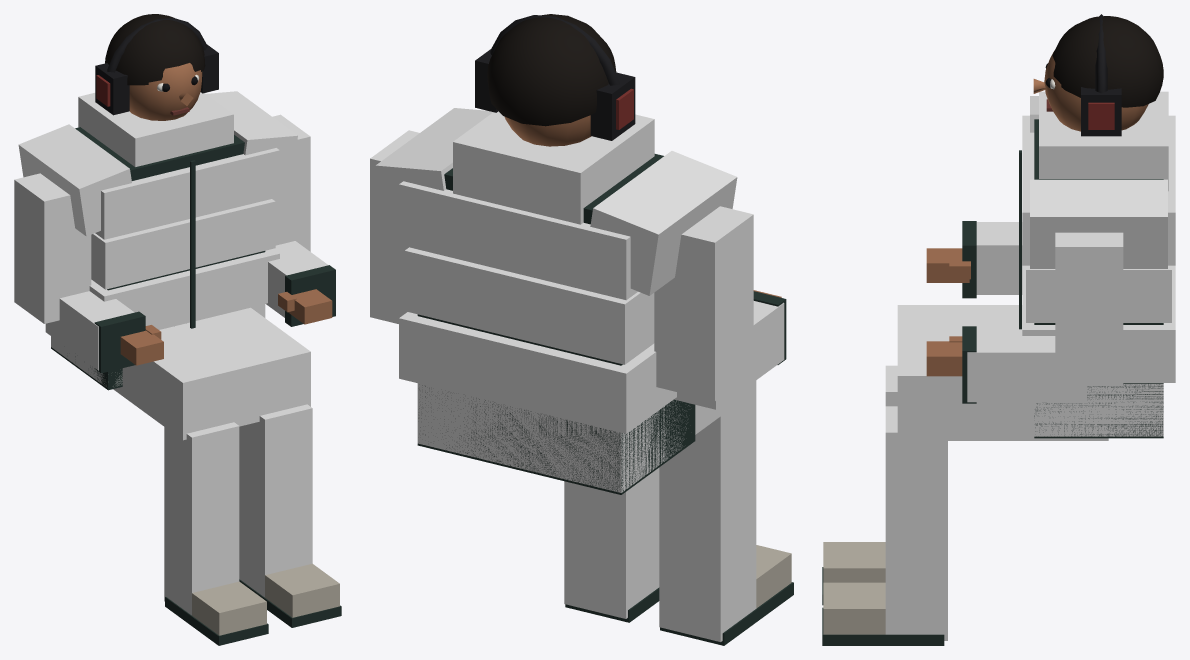
The model's file is NPC_puffer_seated.fbx.
The picture shows the model from 3 angles, left to right: view 1: azimuth 30°, elevation 25°; view 2: azimuth 150°, elevation 25°; view 3: azimuth 270°, elevation 25°; orthographic projection. The views are drawn at different scales.
Visible parts, largest first — view 1: Body_Cloth_557a70.001, Body_Cloth_3a4456.001, Body_Mat_23332f.001, Body_Mat_b9b3a6.001, Head_Hair.015, Head_Skin.015, Body_Skin.015, Head_Mat_19191c.001; view 2: Body_Cloth_557a70.001, Body_Cloth_3a4456.001, Body_Mat_23332f.001, Head_Hair.015, Head_Mat_19191c.001, Body_Mat_b9b3a6.001, Head_Skin.015; view 3: Body_Cloth_557a70.001, Body_Cloth_3a4456.001, Head_Hair.015, Body_Mat_23332f.001, Body_Mat_b9b3a6.001, Body_Skin.015, Head_Mat_19191c.001, Head_Skin.015, Head_Mat_7c2e2a.001.
Boxes of the visible parts, box(x1,y1,x2,y2) form: Body_Cloth_557a70.001: box(14, 91, 328, 386); Body_Cloth_3a4456.001: box(113, 307, 312, 615); Body_Mat_23332f.001: box(51, 127, 341, 645); Body_Mat_b9b3a6.001: box(192, 563, 339, 635); Head_Hair.015: box(105, 14, 205, 85); Head_Skin.015: box(129, 63, 202, 120); Body_Skin.015: box(120, 289, 332, 365); Head_Mat_19191c.001: box(95, 18, 218, 115); Body_Cloth_557a70.001: box(370, 108, 784, 492); Body_Cloth_3a4456.001: box(564, 380, 756, 641); Body_Mat_23332f.001: box(417, 154, 793, 645); Head_Hair.015: box(487, 14, 616, 126); Head_Mat_19191c.001: box(475, 15, 635, 140); Body_Mat_b9b3a6.001: box(756, 545, 791, 608); Head_Skin.015: box(504, 115, 591, 146); Body_Cloth_557a70.001: box(967, 91, 1175, 436); Body_Cloth_3a4456.001: box(885, 305, 1108, 640); Head_Hair.015: box(1052, 16, 1163, 107); Body_Mat_23332f.001: box(822, 119, 1163, 645); Body_Mat_b9b3a6.001: box(823, 542, 885, 634); Body_Skin.015: box(926, 248, 970, 376); Head_Mat_19191c.001: box(1081, 14, 1121, 136); Head_Skin.015: box(1033, 50, 1148, 131); Head_Mat_7c2e2a.001: box(1088, 102, 1114, 129).
Size of the model in its own units: 0.7283 by 1.36 by 0.7375.
